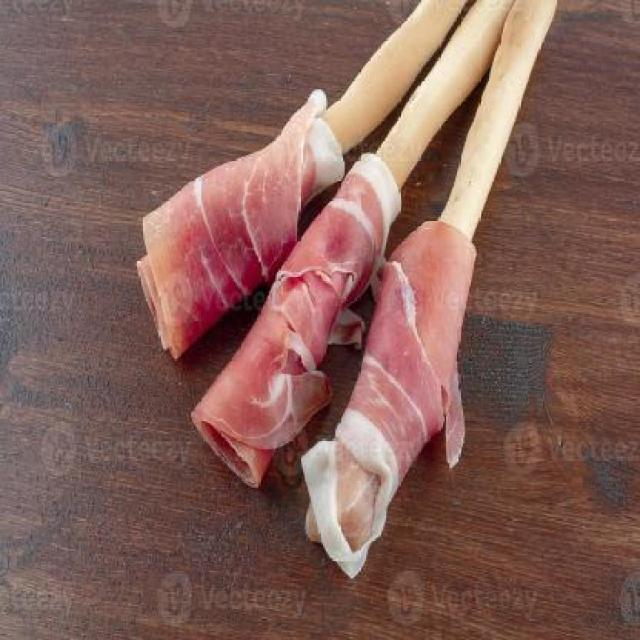Grissini: (132, 2, 602, 564)
